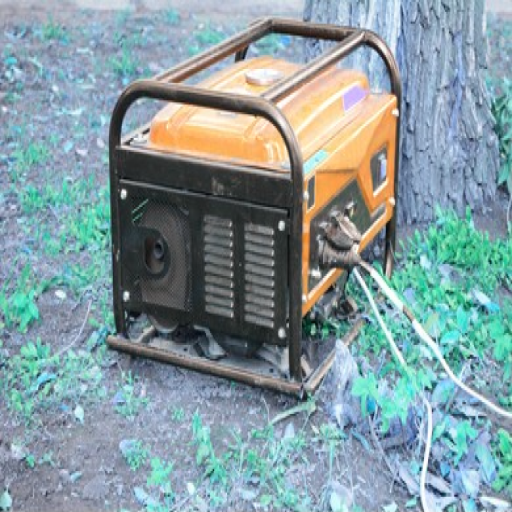portable_generator: (108, 18, 402, 380)
